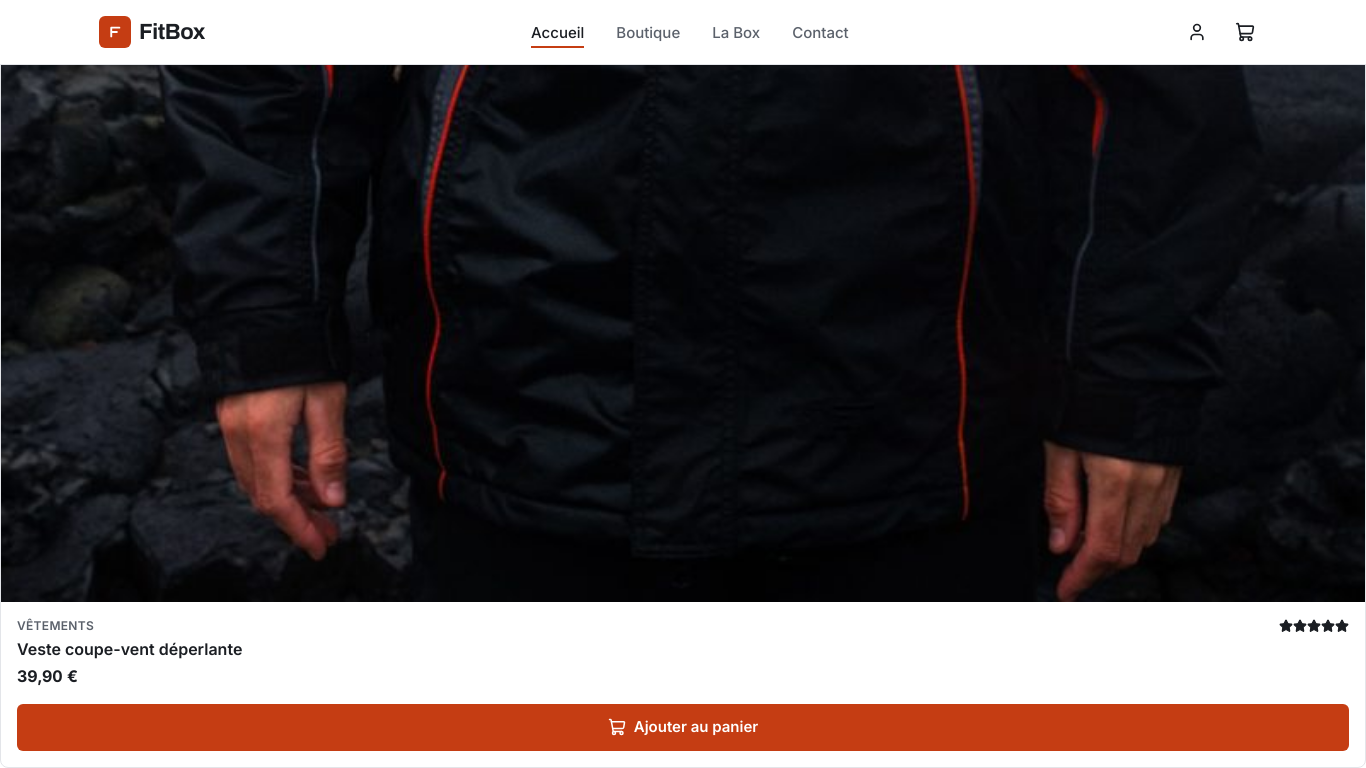
Test: ProductCard › ajoute le produit au panier et met à jour le compteur
(page scrolled)
Click the button "Ajouter au panier" at x=683, y=727, box left=17, top=704, right=1349, bottom=750
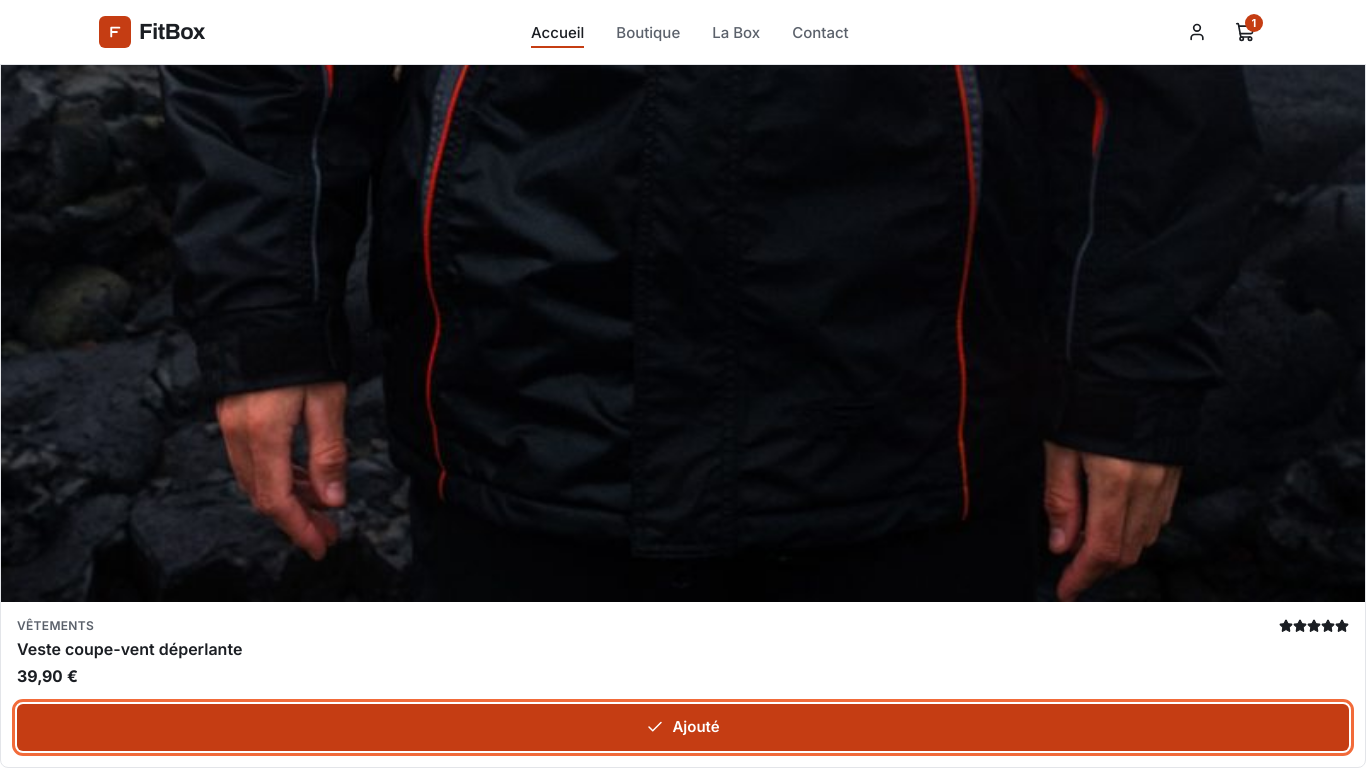
Check: the link named "Panier, 1 article" is shown, box left=1235, top=14, right=1263, bottom=42
Check: the button "Ajouté" is shown, box left=17, top=704, right=1349, bottom=750
